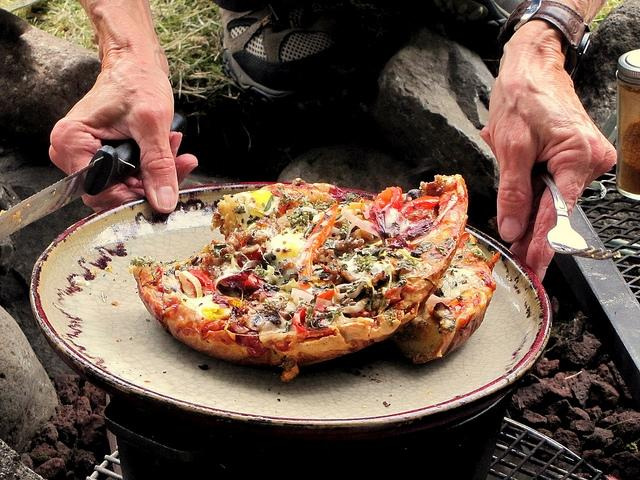tomato: (216, 271, 273, 303), (374, 186, 404, 213), (187, 269, 216, 296), (398, 196, 441, 214), (145, 267, 162, 286), (407, 207, 425, 222), (316, 288, 334, 300), (284, 184, 314, 190), (300, 309, 306, 325)
